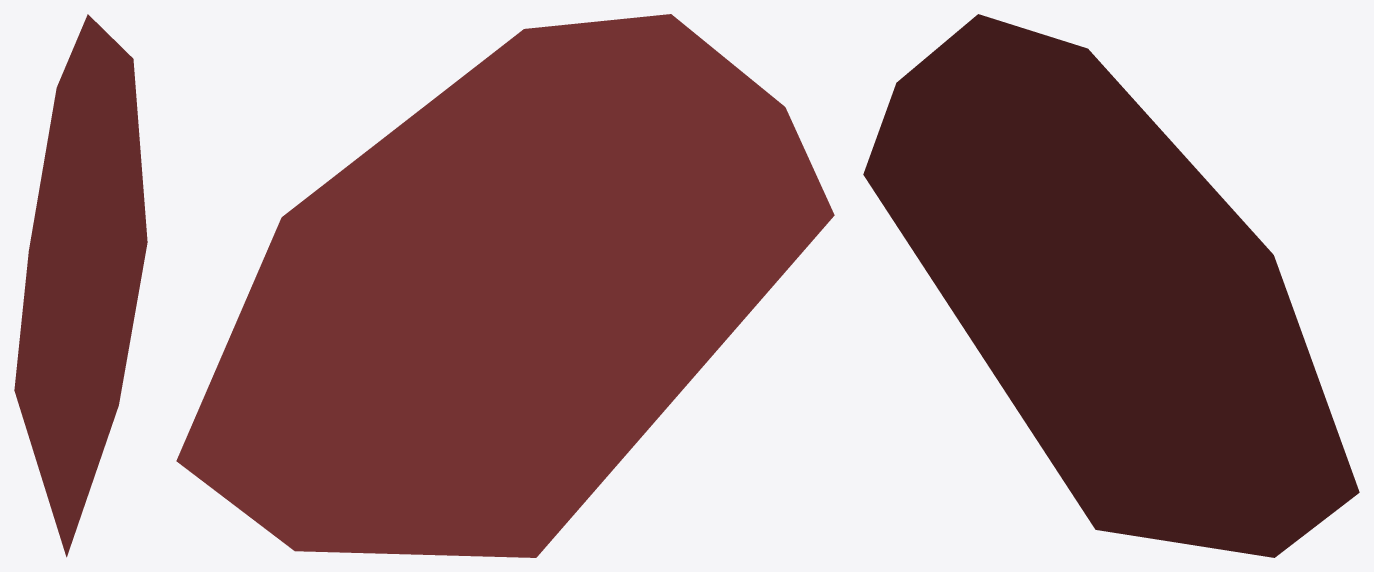
File: flexor-pollicis-longus-er.glb
The picture shows the model from 3 angles, left to right: view 1: azimuth 30°, elevation 25°; view 2: azimuth 150°, elevation 25°; view 3: azimuth 270°, elevation 25°; orthographic projection. The views are drawn at different scales.
Visible parts, largest first — view 1: Flexor pollicis longus.er; view 2: Flexor pollicis longus.er; view 3: Flexor pollicis longus.er.
Boxes of the visible parts, bbox=[...] form: Flexor pollicis longus.er: bbox=[14, 14, 147, 557]; Flexor pollicis longus.er: bbox=[176, 14, 834, 557]; Flexor pollicis longus.er: bbox=[863, 14, 1359, 557].
Size of the model in its own units: 0.00314 by 0.00399 by 0.00367.
